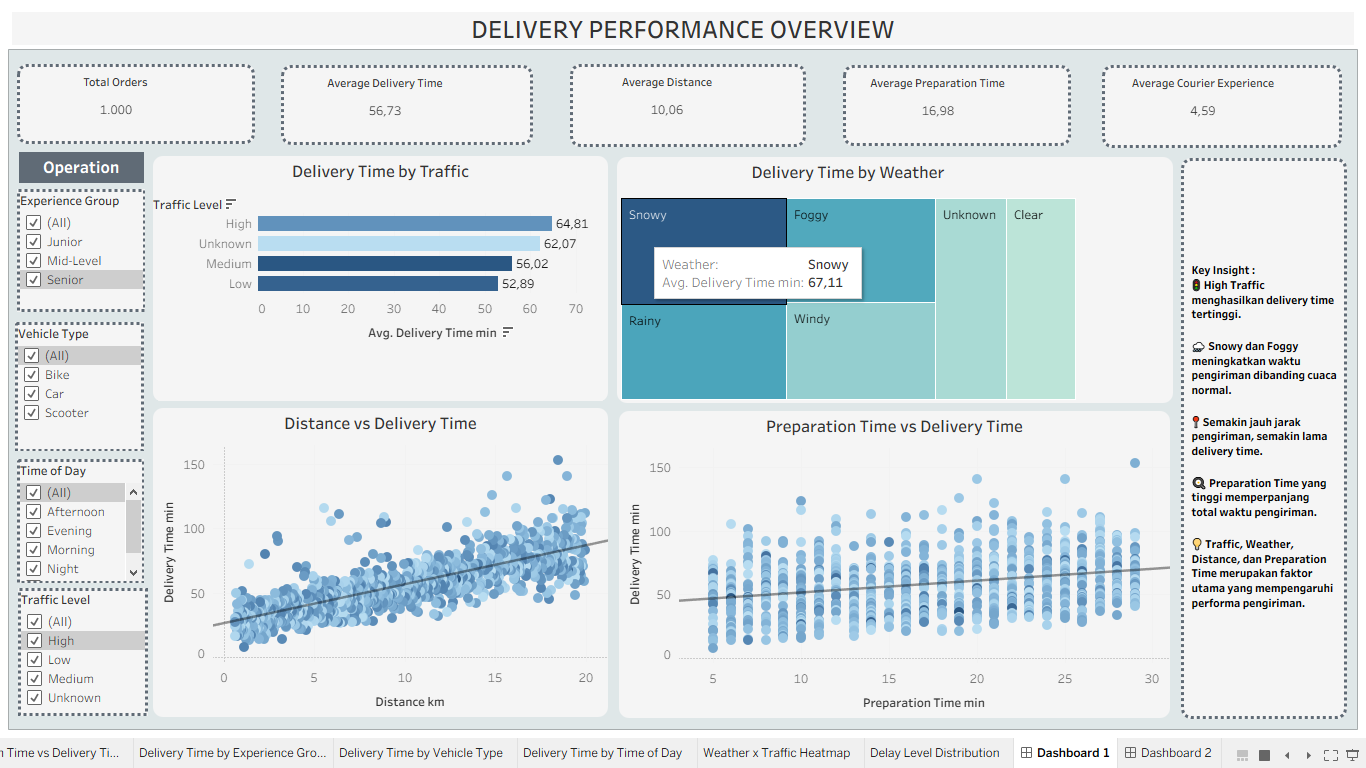

This screenshot's page, from the dashboard's own definition file:
{"tool":"tableau","page":{"name":"Dashboard 1","canvas":[1000,1000],"units":"permille","ordinal":0},"visuals":[{"type":"title","box":[6.9,13.5,986.1,69.2]},{"type":"worksheet","title":"KPI Total Orders","mark":"Automatic","box":[10.4,82.8,178.3,116.5]},{"type":"worksheet","title":"KPI Average Distance","mark":"Automatic","box":[414.7,82.8,177.5,119.9]},{"type":"worksheet","title":"KPI Average Delivery Time","mark":"Automatic","box":[203.5,84.5,188.7,116.5]},{"type":"worksheet","title":"KPI Average Preparation Time","mark":"Automatic","box":[614.7,84.5,171.4,118.2]},{"type":"worksheet","title":"KPI Average Courier Experience","mark":"Automatic","box":[804.3,84.5,180.1,119.9]},{"type":"dashboard-object","box":[13.8,206.1,91.8,42.2]},{"type":"text","box":[860.6,207.8,129,773.6]},{"type":"worksheet","title":"Delivery Time by Traffic","mark":"Automatic","rows":["Traffic_Level"],"cols":["Delivery_Time_min"],"box":[111.7,211.2,333.3,332.8]},{"type":"worksheet","title":"Delivery Time by Weather","mark":"Automatic","box":[451.9,212.8,406.9,332.8]},{"type":"filter","title":"Delivery Time by Traffic","param":"[federated.0vmjtpn1v1nipl15itja31l8ypsn].[none:Experience_Group:nk]","box":[12.1,256.8,94.4,167.2]},{"type":"filter","title":"Delivery Time by Traffic","param":"[federated.0vmjtpn1v1nipl15itja31l8ypsn].[none:Vehicle_Type:nk]","box":[11.3,435.8,94.4,175.7]},{"type":"worksheet","title":"Distance vs Delivery Time","mark":"Circle","rows":["Delivery_Time_min"],"cols":["Distance_km"],"box":[111.7,552.4,333.3,418.9]},{"type":"worksheet","title":"Preparation Time vs Delivery Time","mark":"Circle","rows":["Delivery_Time_min"],"cols":["Preparation_Time_min"],"box":[452.8,557.4,403.5,415.5]},{"type":"filter","title":"Delivery Time by Traffic","param":"[federated.0vmjtpn1v1nipl15itja31l8ypsn].[none:Time_of_Day:nk]","box":[12.1,621.6,93.5,168.9]},{"type":"filter","title":"Delivery Time by Traffic","param":"[federated.0vmjtpn1v1nipl15itja31l8ypsn].[none:Traffic_Level:nk]","box":[13,797.3,95.2,174]}]}

Visuals, with their boxes on the dashboard's canvas, which has no fixed pixel size, in thousandths of its width and height (x1, y1, x2, y2). These are canvas units, not pixel positions in the 1366x768 screenshot, which may show the page scaled, cropped or inside an application window:
title: x1=7 y1=14 x2=993 y2=83
"KPI Total Orders" worksheet: x1=10 y1=83 x2=189 y2=199
"KPI Average Distance" worksheet: x1=415 y1=83 x2=592 y2=203
"KPI Average Delivery Time" worksheet: x1=204 y1=84 x2=392 y2=201
"KPI Average Preparation Time" worksheet: x1=615 y1=84 x2=786 y2=203
"KPI Average Courier Experience" worksheet: x1=804 y1=84 x2=984 y2=204
dashboard-object: x1=14 y1=206 x2=106 y2=248
text: x1=861 y1=208 x2=990 y2=981
"Delivery Time by Traffic" worksheet: x1=112 y1=211 x2=445 y2=544
"Delivery Time by Weather" worksheet: x1=452 y1=213 x2=859 y2=546
"Delivery Time by Traffic" filter: x1=12 y1=257 x2=106 y2=424
"Delivery Time by Traffic" filter: x1=11 y1=436 x2=106 y2=612
"Distance vs Delivery Time" worksheet (Circle marks): x1=112 y1=552 x2=445 y2=971
"Preparation Time vs Delivery Time" worksheet (Circle marks): x1=453 y1=557 x2=856 y2=973
"Delivery Time by Traffic" filter: x1=12 y1=622 x2=106 y2=790
"Delivery Time by Traffic" filter: x1=13 y1=797 x2=108 y2=971
